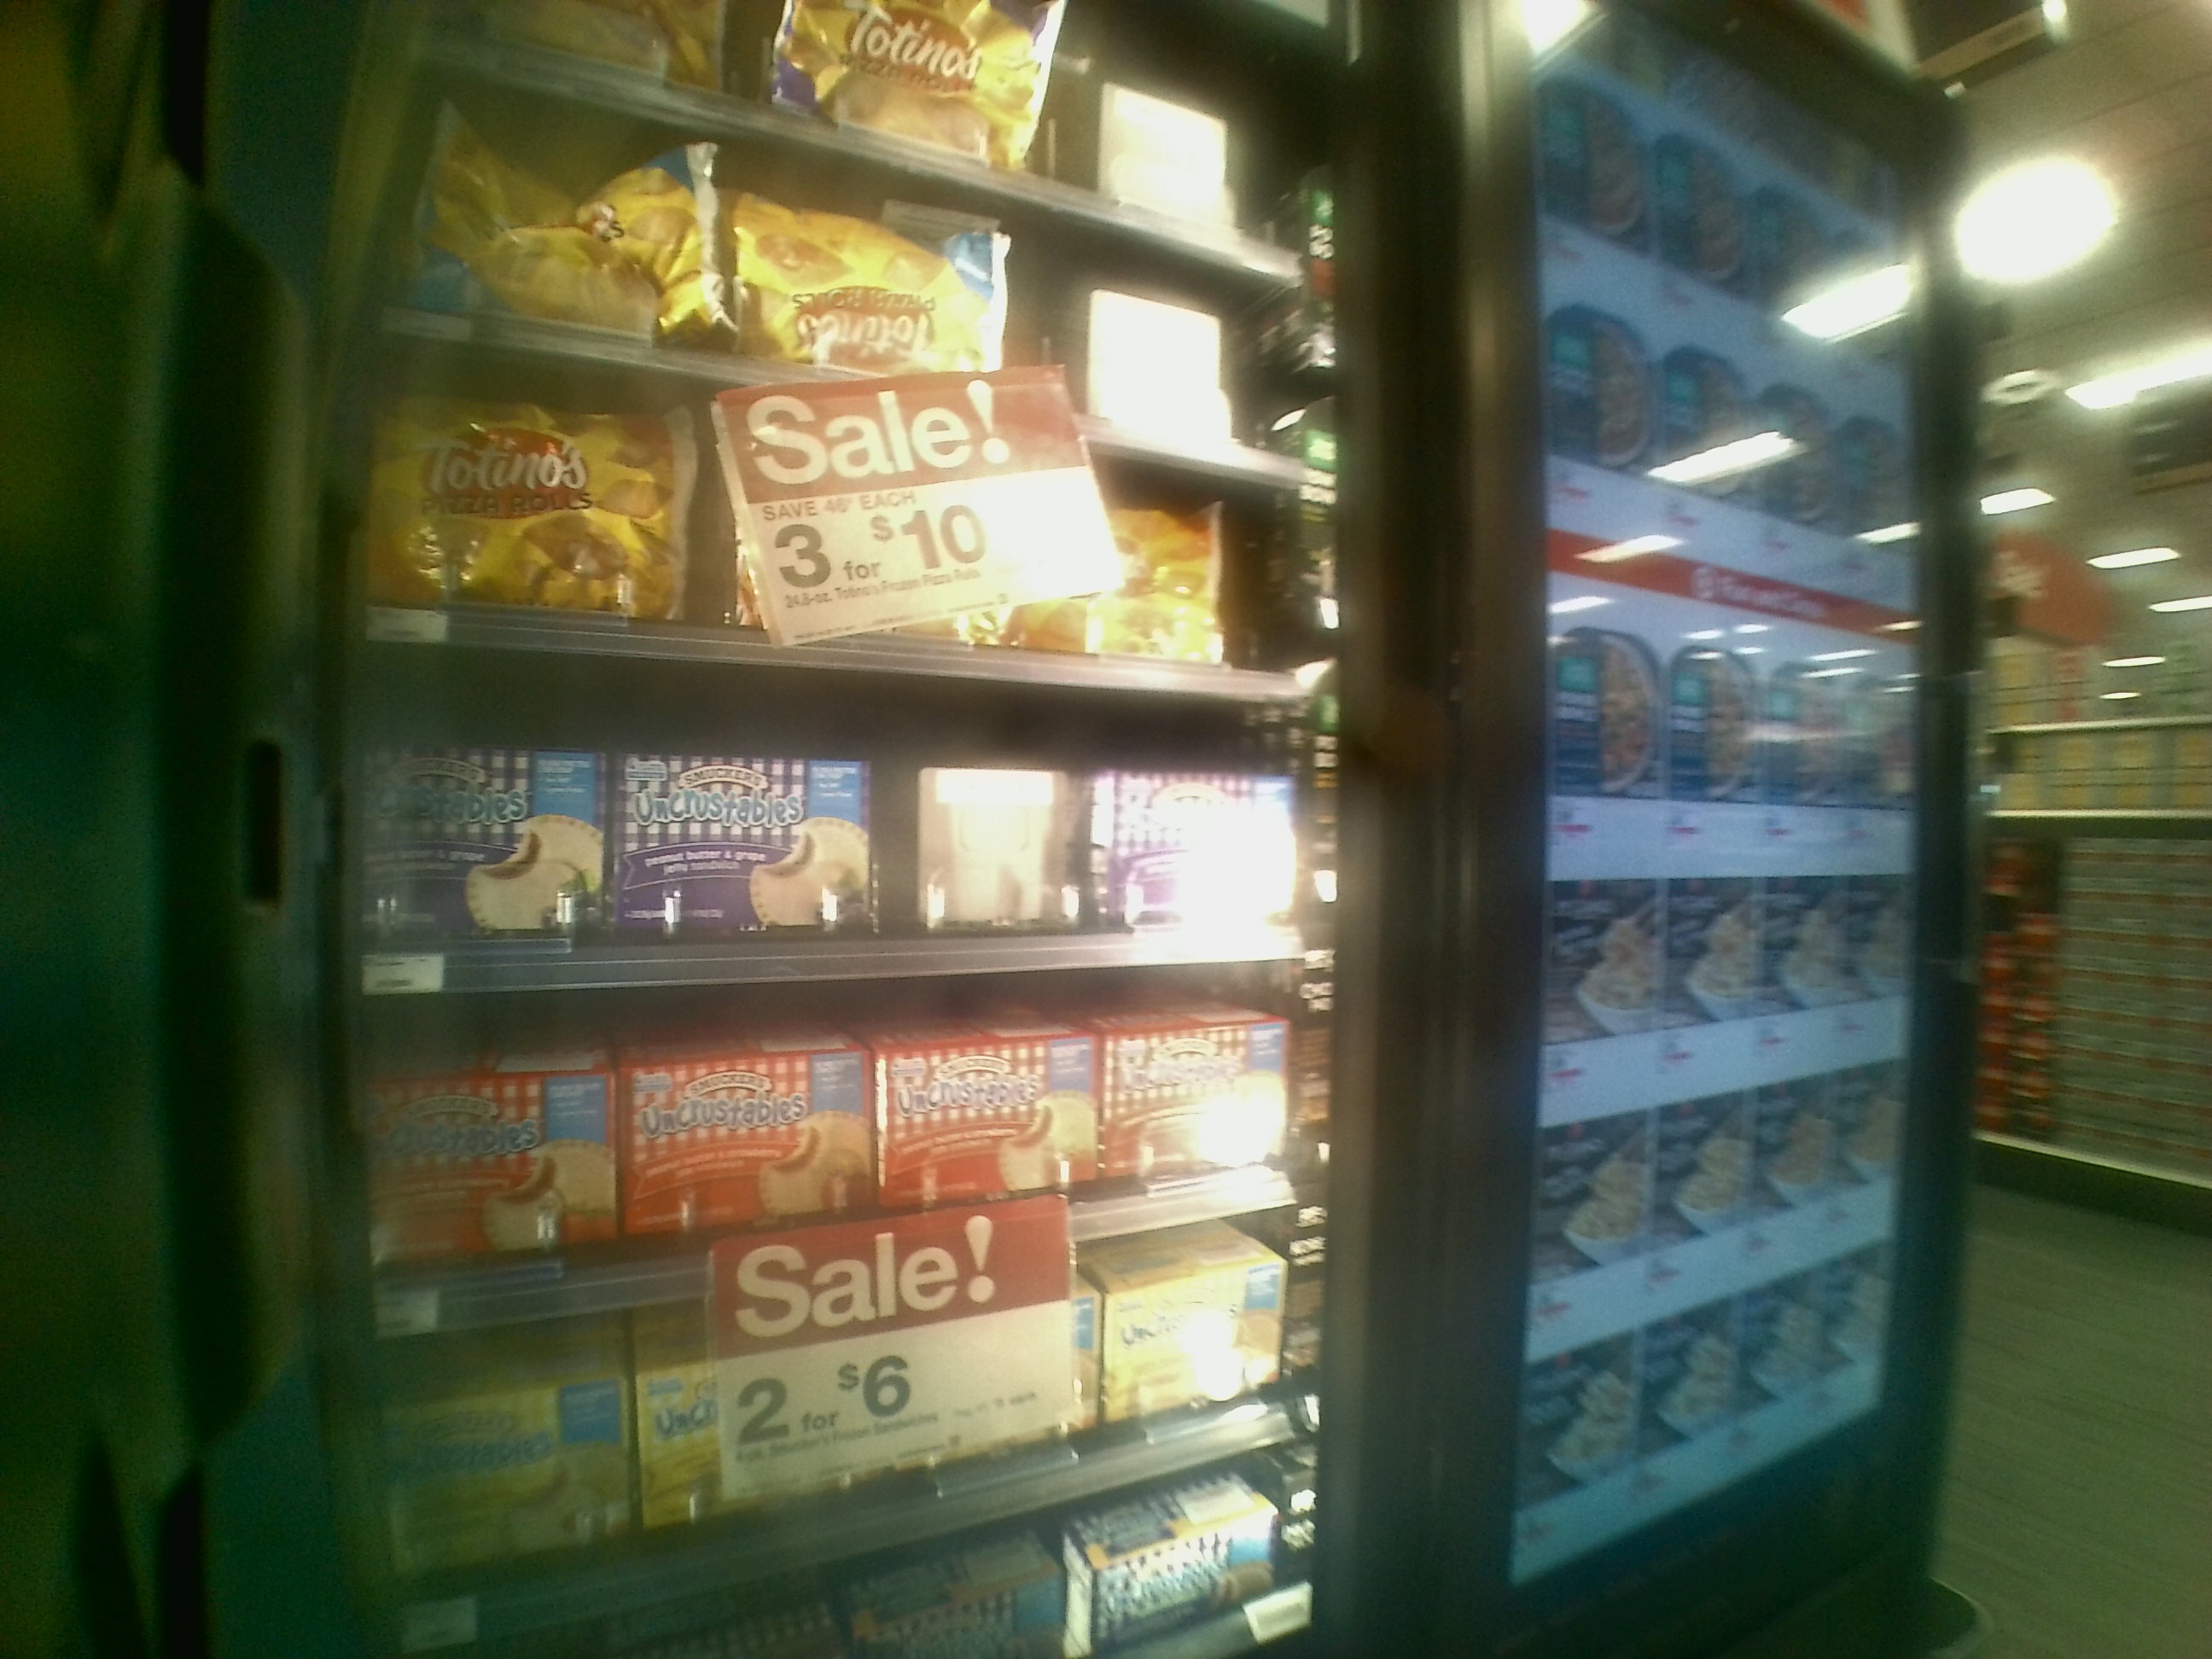shelf: (347, 603, 1327, 957)
